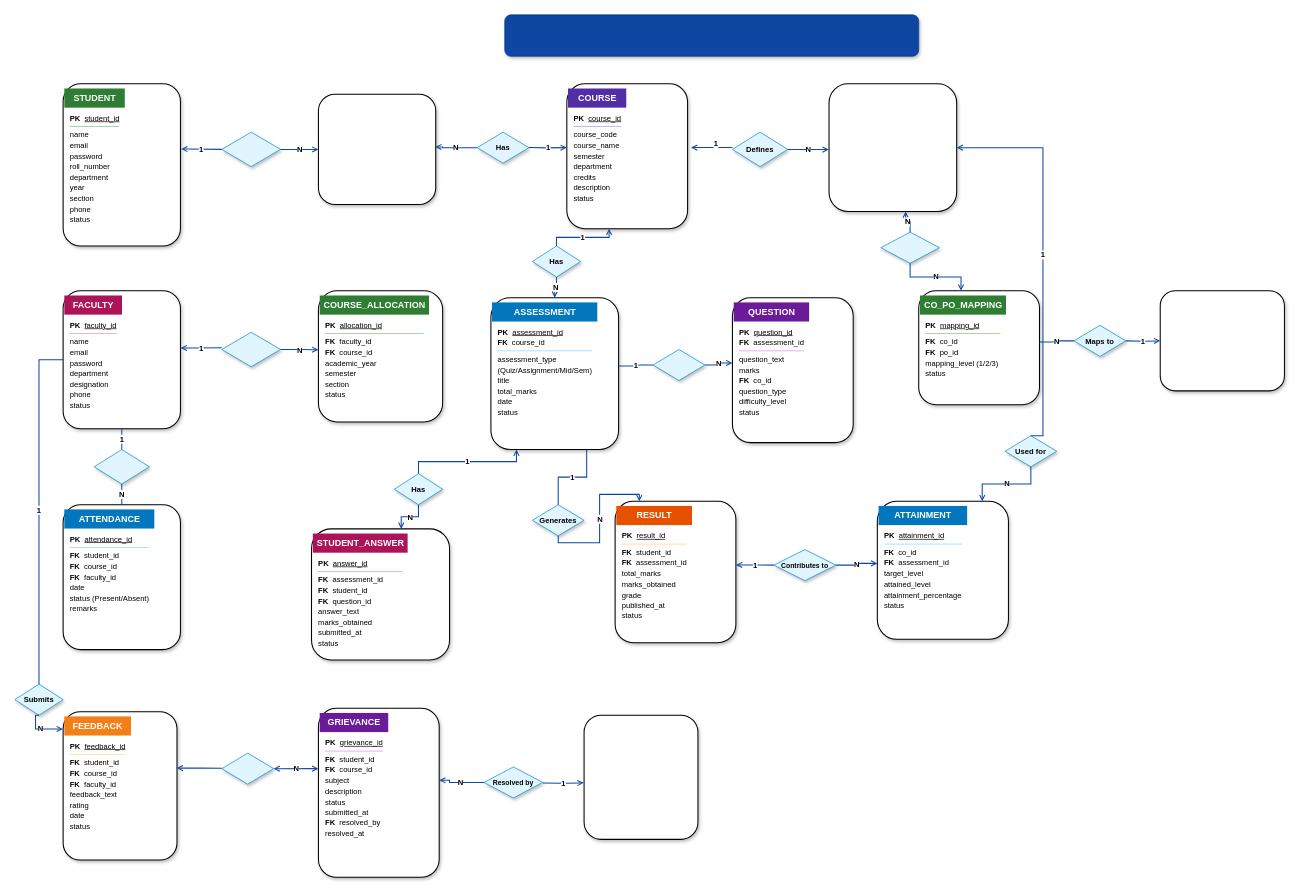
The diagram is 1301 pixels wide and 895 high, and some of its shapes have lost their labels. Here are the shapes that lost their labels. From the top down, the centre of each, then its label:
pixel 712 36: ER Diagram Outcome Based Learning Management System (OBLMS)
pixel 251 150: Enrolls in
pixel 377 150: ENROLLMENT PK enrollment_id FK student_id FK course_id enrollment_date status
pixel 893 148: COURSE_OUTCOME PK co_id FK course_id co_number co_description bloom_level status
pixel 910 248: Mapped to
pixel 251 350: Teaches
pixel 1223 341: PROGRAM_OUTCOME PK po_id po_number po_description status
pixel 679 365: Contains
pixel 122 467: Records / Takes
pixel 248 769: Raises
pixel 641 778: ADMIN PK admin_id name email password role phone status
